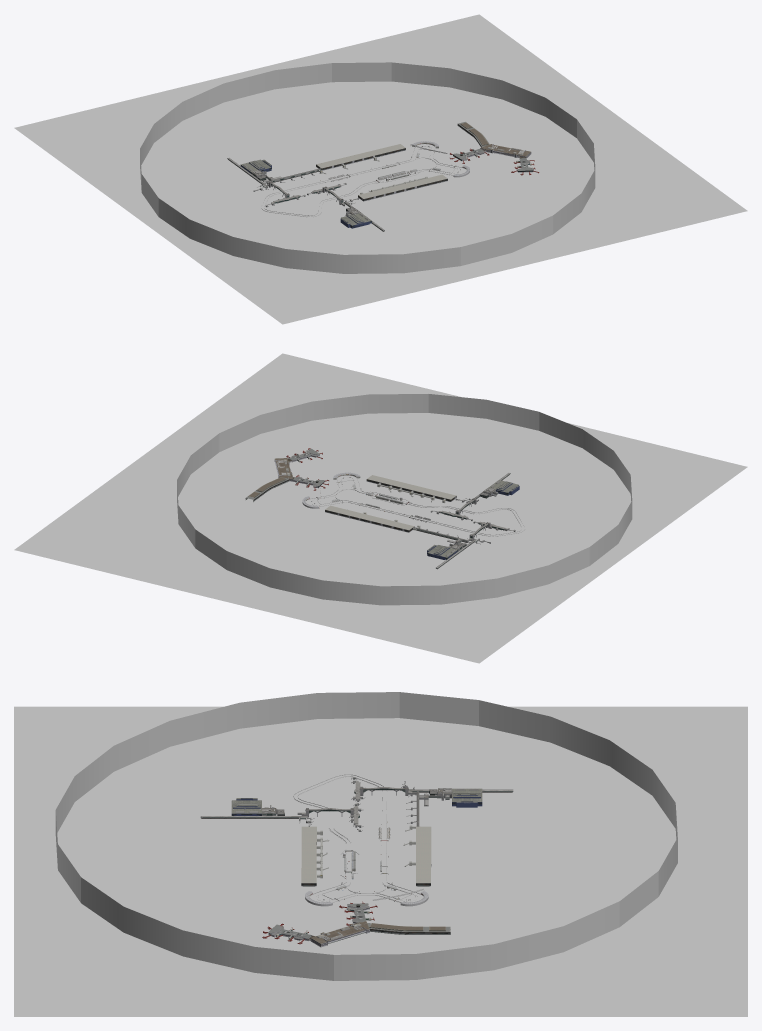
Rendered from level 4 mesh.fbx.
3 renders of one model, top to bottom at view 1: azimuth 30°, elevation 25°; view 2: azimuth 150°, elevation 25°; view 3: azimuth 270°, elevation 25°, orthographic. The views are drawn at different scales.
Parts seen in each view (by area): view 1: Plane, _Background, model_0.002, model_0, model_0.004, model_0.001, model_0.003, Road.001; view 2: Plane, _Background, model_0.002, model_0, model_0.004, model_0.001, model_0.003, Road.001; view 3: Plane, _Background, model_0.002, model_0, model_0.001, model_0.004, Road.001, model_0.003, Track.007.
Part boxes in pixels (bbox=[...]): Plane: bbox=[14, 14, 747, 324]; _Background: bbox=[140, 62, 595, 273]; model_0.002: bbox=[450, 121, 539, 175]; model_0: bbox=[227, 158, 321, 207]; model_0.004: bbox=[358, 174, 447, 201]; model_0.001: bbox=[307, 183, 384, 231]; model_0.003: bbox=[316, 144, 405, 173]; Road.001: bbox=[262, 145, 465, 216]; Plane: bbox=[14, 353, 747, 663]; _Background: bbox=[177, 394, 632, 605]; model_0.002: bbox=[245, 448, 328, 501]; model_0: bbox=[413, 521, 515, 569]; model_0.004: bbox=[366, 475, 456, 502]; model_0.001: bbox=[430, 473, 519, 520]; model_0.003: bbox=[325, 505, 420, 532]; Road.001: bbox=[307, 476, 523, 535]; Plane: bbox=[14, 706, 747, 1016]; _Background: bbox=[55, 692, 677, 980]; model_0.002: bbox=[262, 901, 450, 947]; model_0: bbox=[351, 777, 513, 826]; model_0.001: bbox=[200, 798, 363, 831]; model_0.004: bbox=[301, 826, 329, 886]; Road.001: bbox=[294, 775, 421, 902]; model_0.003: bbox=[403, 825, 431, 886]; Track.007: bbox=[294, 775, 423, 902].
Size of what is drawn, in the model's own units: 432646 by 17359 by 432646.
